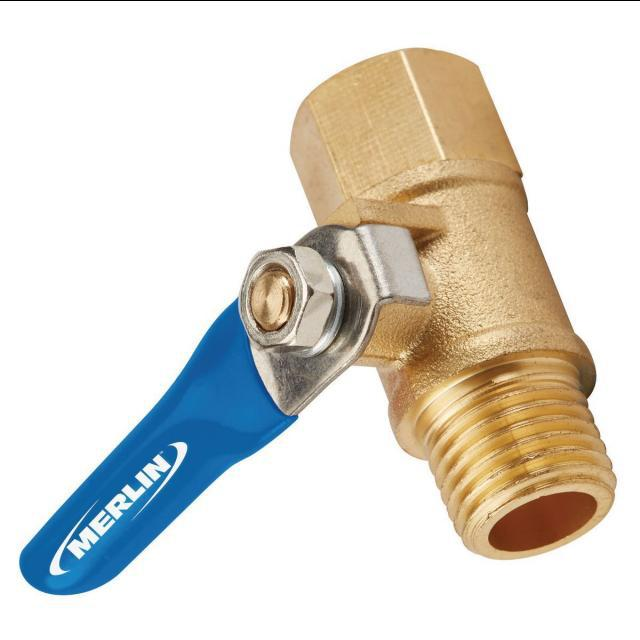closed valve: (15, 42, 619, 600)
